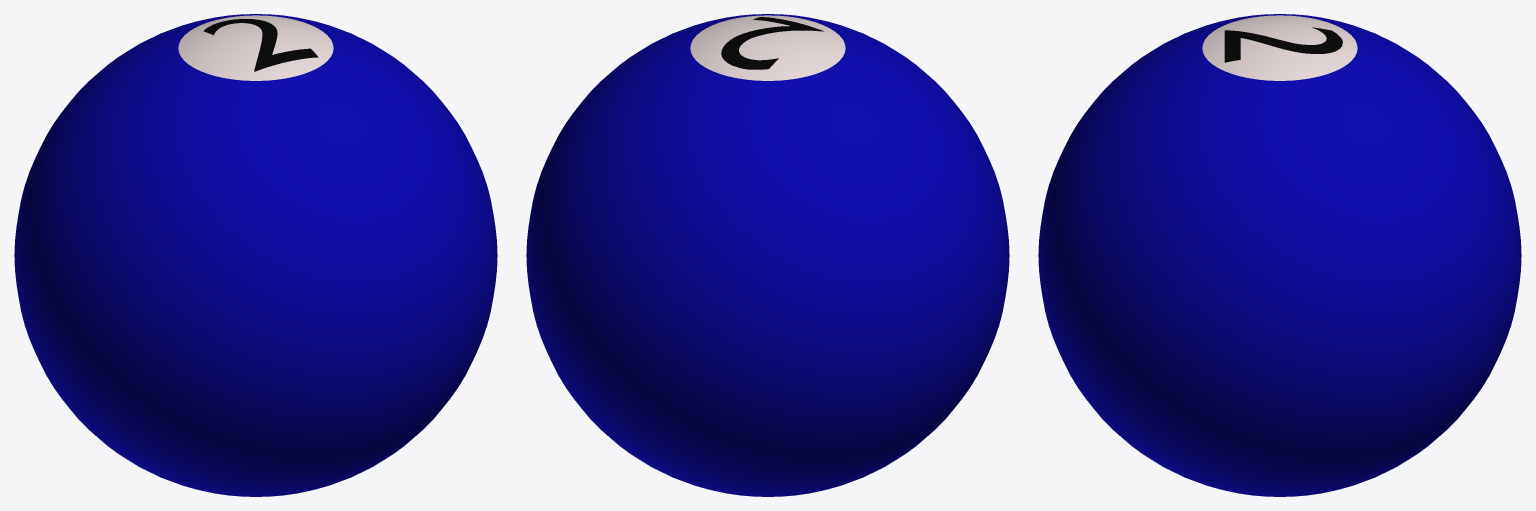
File: twoBall.glb
The picture shows the model from 3 angles, left to right: view 1: azimuth 30°, elevation 25°; view 2: azimuth 150°, elevation 25°; view 3: azimuth 270°, elevation 25°; orthographic projection.
Parts seen in each view (by area): view 1: Sphere; view 2: Sphere; view 3: Sphere.
Boxes of the visible parts, x1,y1,x2,y2 form: Sphere: (14, 14, 497, 496); Sphere: (526, 14, 1009, 496); Sphere: (1038, 14, 1521, 496).
Size of the model in its own units: 0.127 by 0.127 by 0.127.
